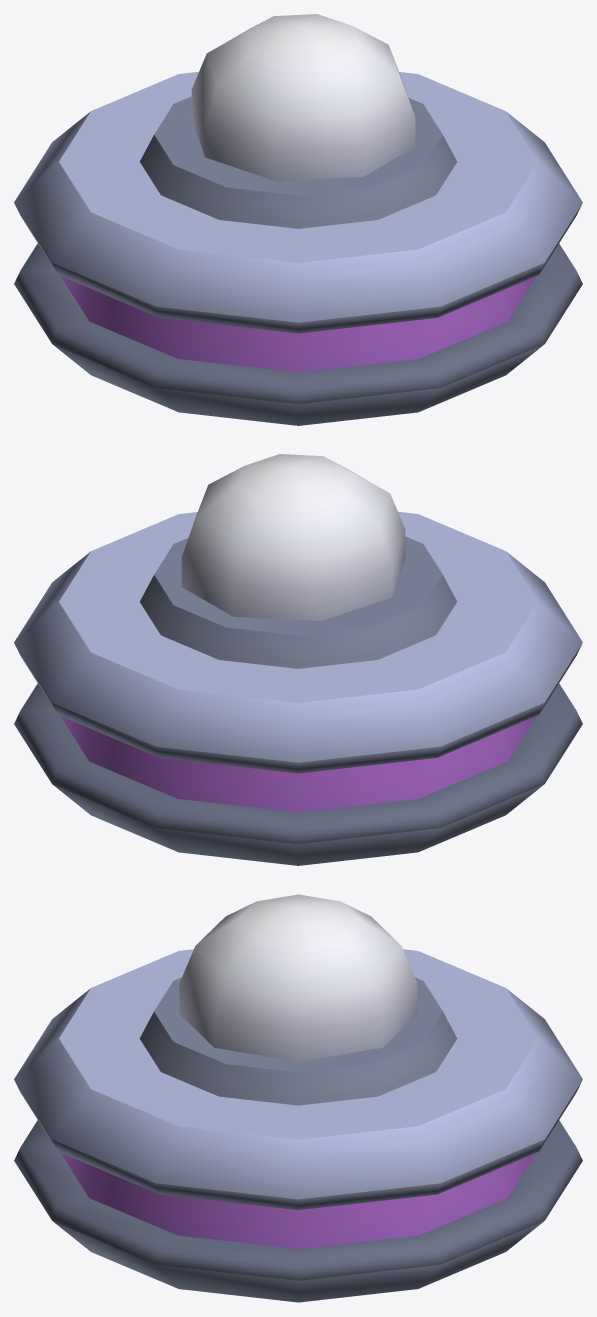
Rendered from kenney-tower-defense-enemy-ufo-d.glb.
3 renders of one model, top to bottom at view 1: azimuth 30°, elevation 25°; view 2: azimuth 150°, elevation 25°; view 3: azimuth 270°, elevation 25°, orthographic.
Visible parts, largest first — view 1: enemy-ufo-d; view 2: enemy-ufo-d; view 3: enemy-ufo-d.
Boxes of the visible parts, x1,y1,x2,y2 form: enemy-ufo-d: [14, 14, 582, 425]; enemy-ufo-d: [14, 454, 582, 865]; enemy-ufo-d: [14, 894, 582, 1302].
Size of the model in its own units: 0.9494 by 0.5444 by 0.95.
1 material, 1 textured.
